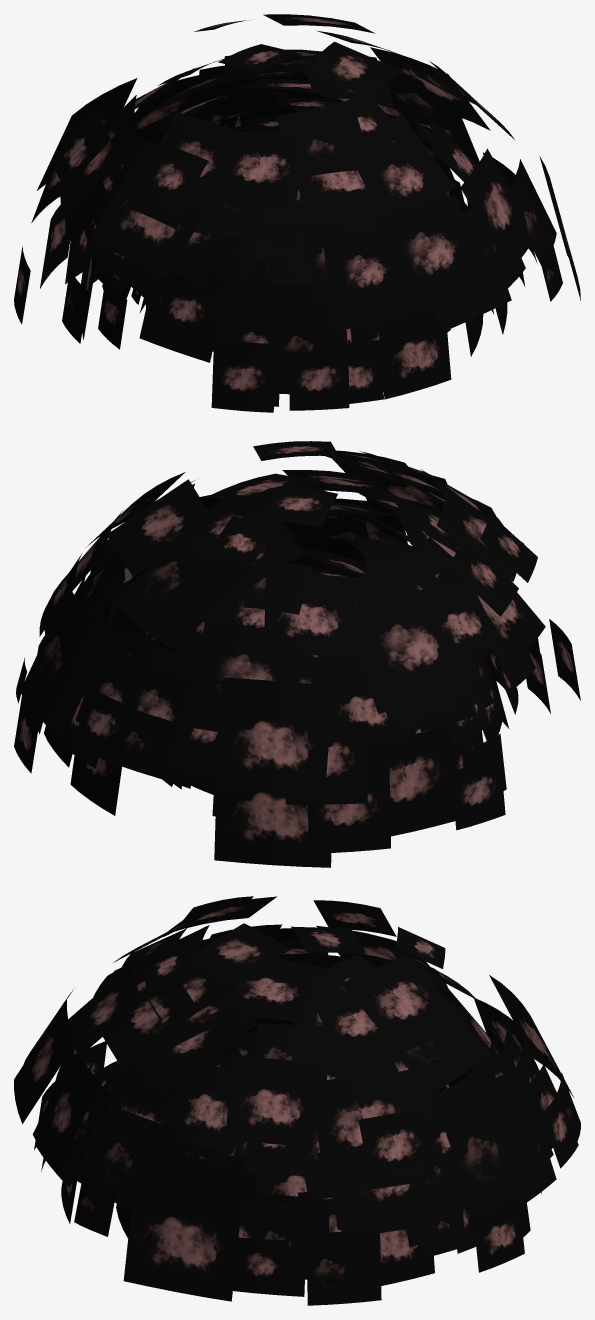
Rendered from sky_cloud.glb.
3 views of the same model, one above another, from view 1: azimuth 30°, elevation 25°; view 2: azimuth 150°, elevation 25°; view 3: azimuth 270°, elevation 25° (orthographic). The views are drawn at different scales.
Parts seen in each view (by area): view 1: CloudsB_Clouds_2x2_0, CloudsA_Clouds_2x2_0, CloudsC_Clouds_2x2_0, CloudsD_Clouds_2x2_0; view 2: CloudsD_Clouds_2x2_0, CloudsC_Clouds_2x2_0, CloudsB_Clouds_2x2_0, CloudsA_Clouds_2x2_0; view 3: CloudsA_Clouds_2x2_0, CloudsC_Clouds_2x2_0, CloudsD_Clouds_2x2_0, CloudsB_Clouds_2x2_0, CloudsE_Clouds_2x2_0.
Part boxes in pixels (x1,y1,x2,y2): CloudsB_Clouds_2x2_0: [51, 19, 562, 412]; CloudsA_Clouds_2x2_0: [61, 41, 580, 378]; CloudsC_Clouds_2x2_0: [82, 14, 537, 403]; CloudsD_Clouds_2x2_0: [14, 44, 556, 399]; CloudsD_Clouds_2x2_0: [14, 453, 537, 853]; CloudsC_Clouds_2x2_0: [38, 450, 545, 836]; CloudsB_Clouds_2x2_0: [16, 456, 580, 815]; CloudsA_Clouds_2x2_0: [80, 441, 518, 867]; CloudsA_Clouds_2x2_0: [14, 923, 541, 1301]; CloudsC_Clouds_2x2_0: [35, 896, 553, 1257]; CloudsD_Clouds_2x2_0: [61, 896, 580, 1285]; CloudsB_Clouds_2x2_0: [23, 900, 578, 1305]; CloudsE_Clouds_2x2_0: [233, 1237, 288, 1294].
Size of the model in its own units: 4726 by 2683 by 4728.
1 material, 1 textured.
